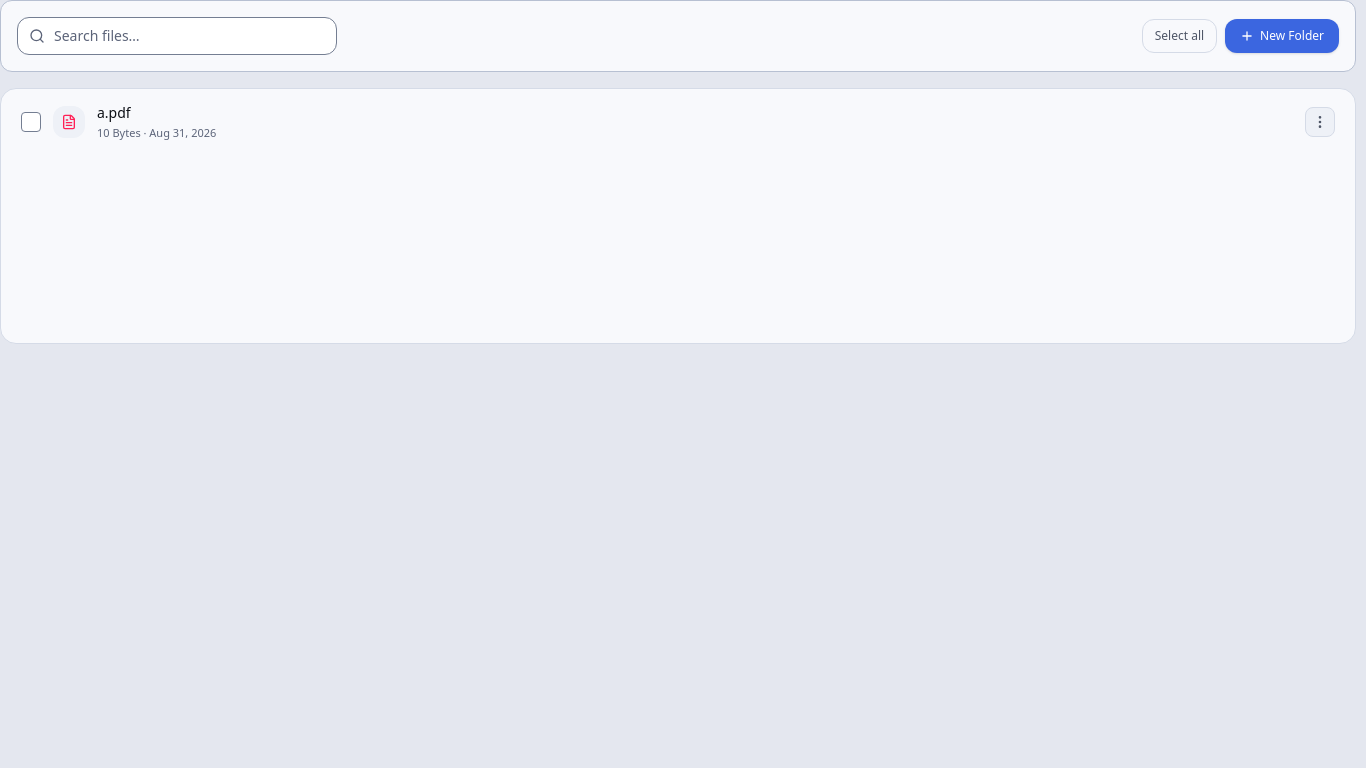
Test: treats the root as where a root-level row already is
Check: the text "a.pdf" is shown, box [97,103,131,123]
Click the button named "More actions": (1320, 122) [1305,107,1335,137]
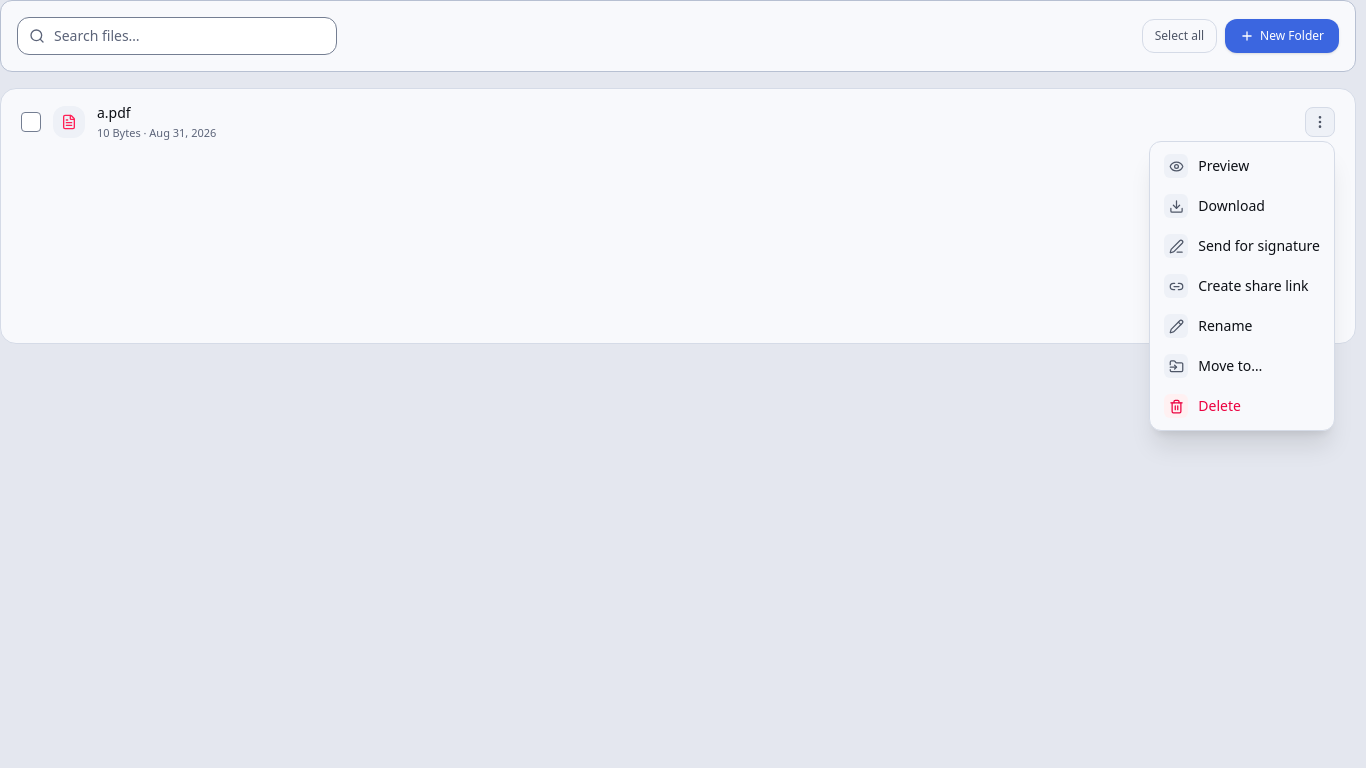
Click the button "Move to…": (1242, 366) [1154,346,1330,386]
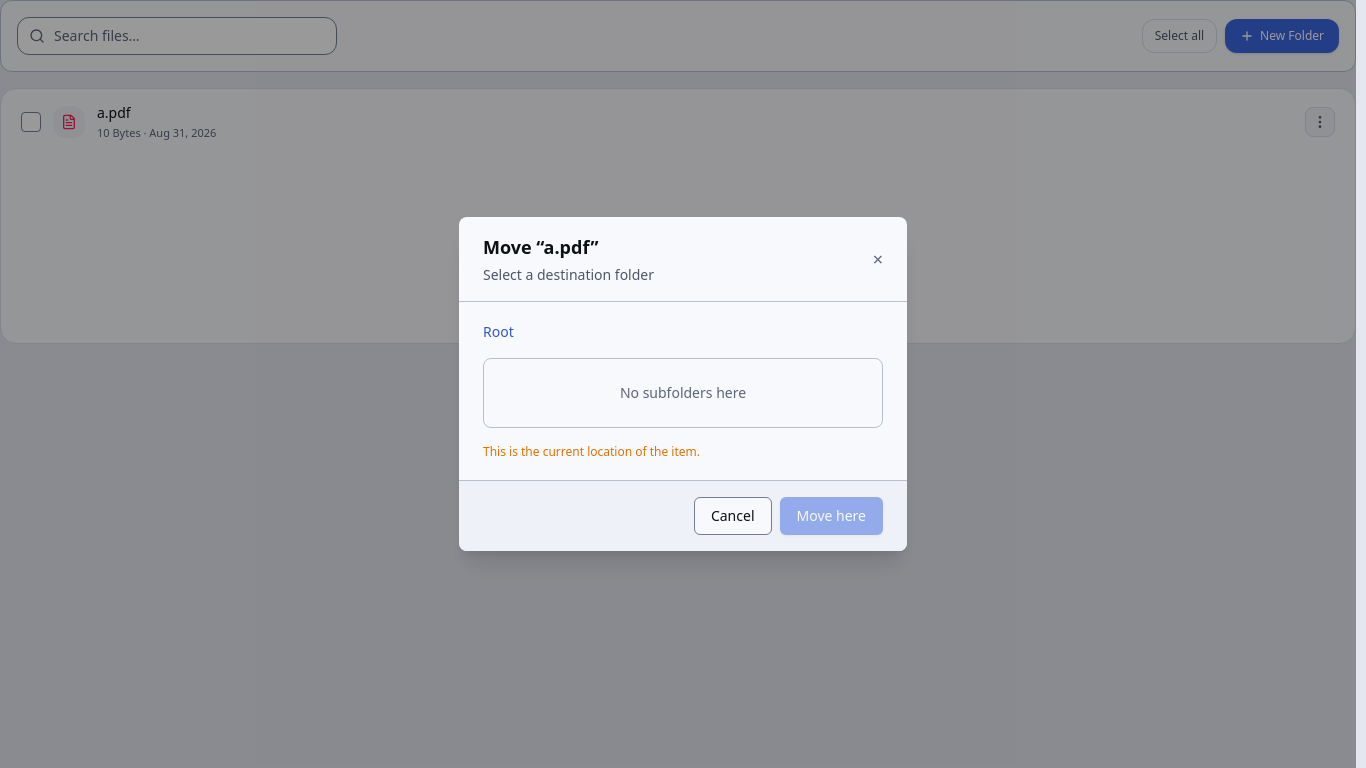
Check: the text "No subfolders here" is shown, box [620,383,746,402]
Check: the text "This is the current location of the item." is shown, box [483,443,700,460]
Check: the button "Move here" is disabled, box [780,497,883,535]
